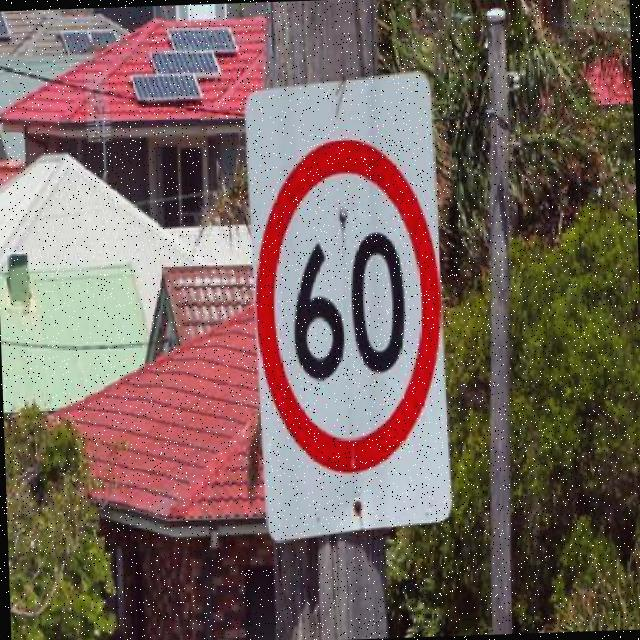Ograniczenie predkosci do 60: (254, 145, 446, 462)
